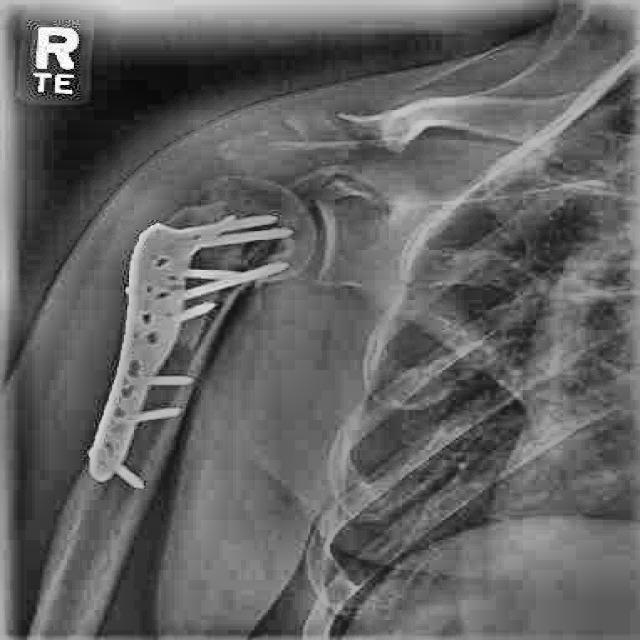shoulder fracture: (170, 282, 257, 372)
